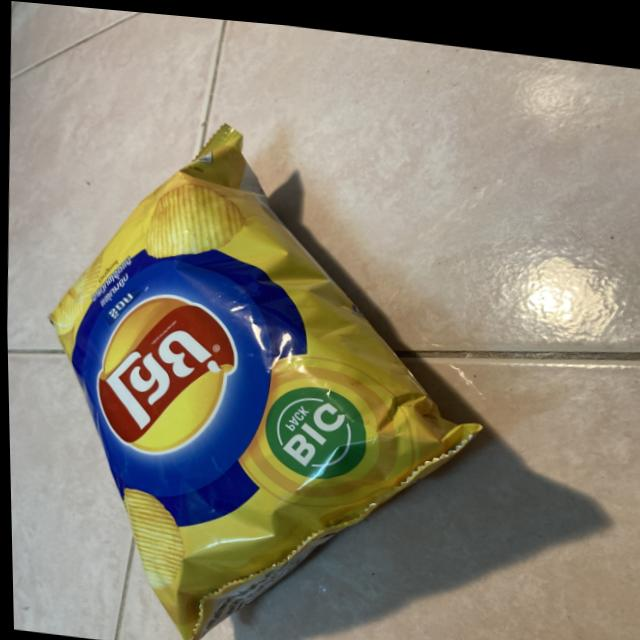LayYellow: (29, 80, 489, 640)
